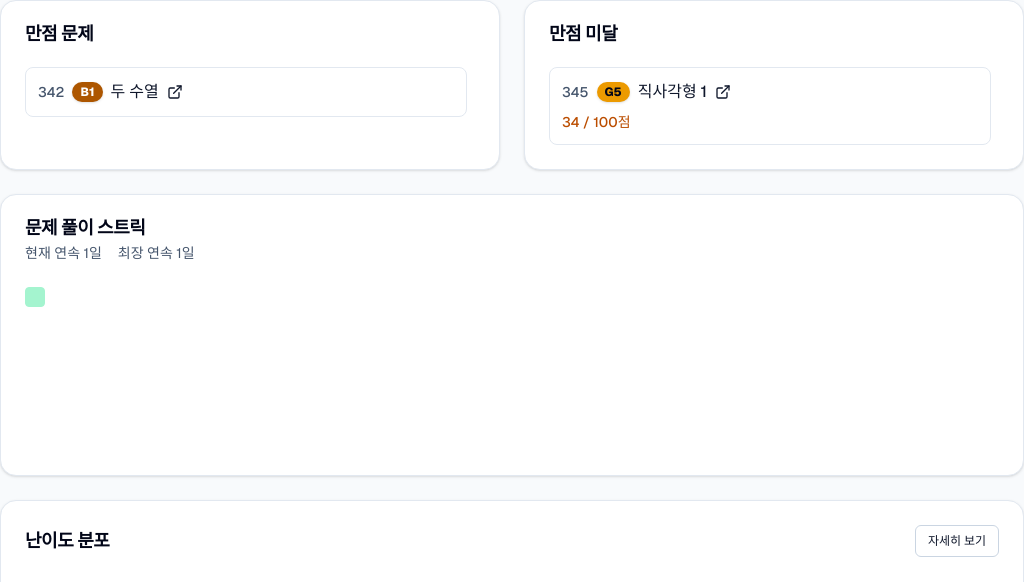
Test: ProblemOverview › keeps complete problem identifiers available when titles are truncated
The image size is (1024, 582).
Hover over the link "342 B1 두 수열" at (110, 92), box [38,81,183,102]
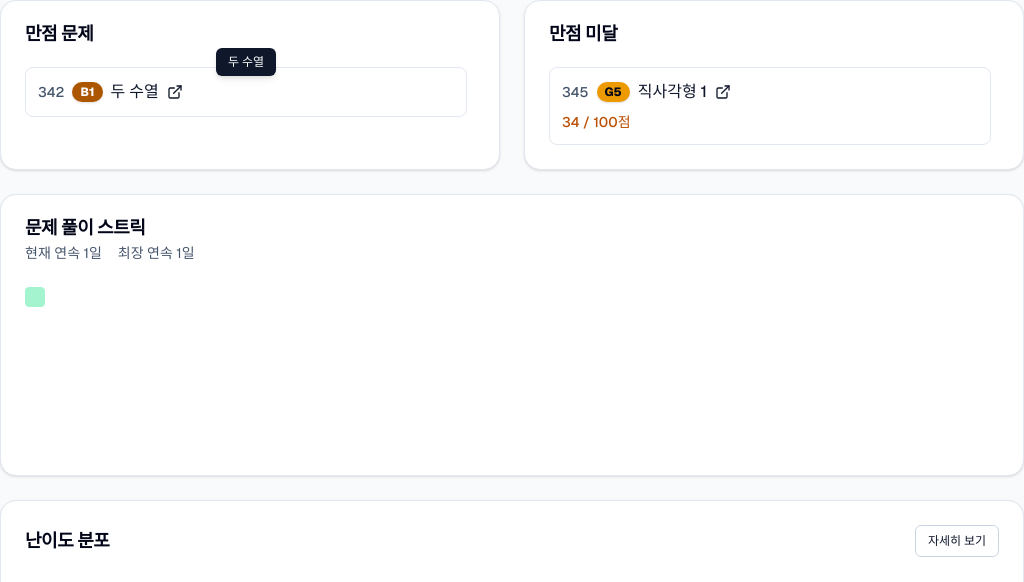
Check: the tooltip reads "두 수열", box [228,54,264,70]
